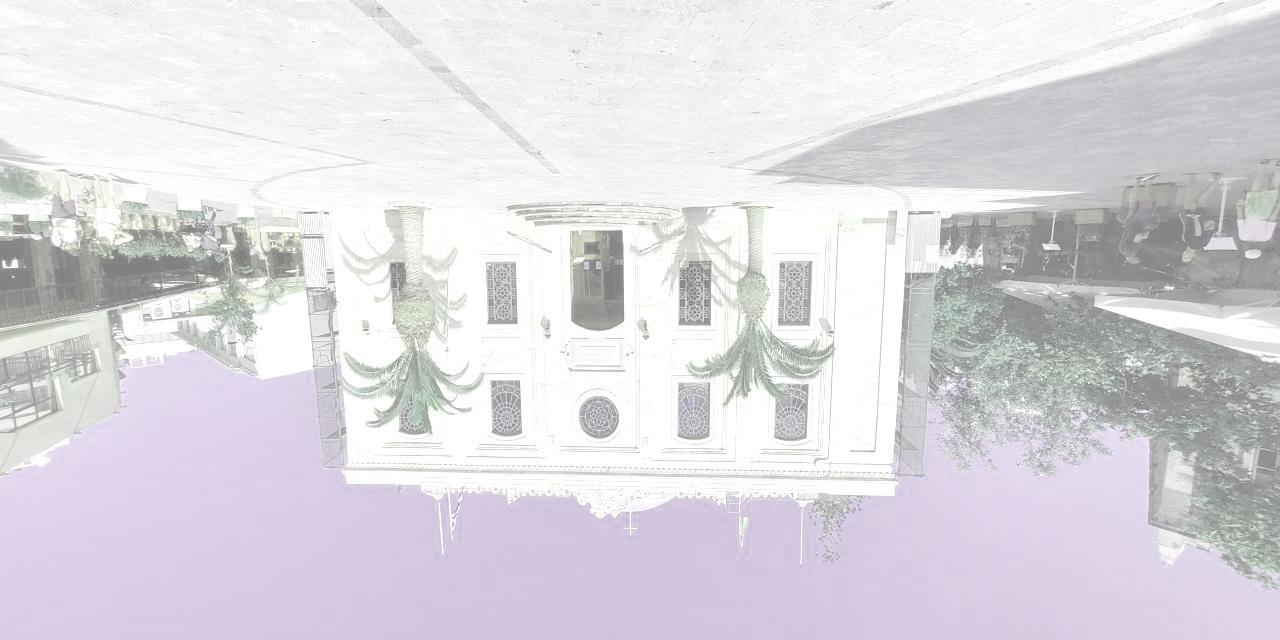Agios Titos: (341, 195, 908, 516)
